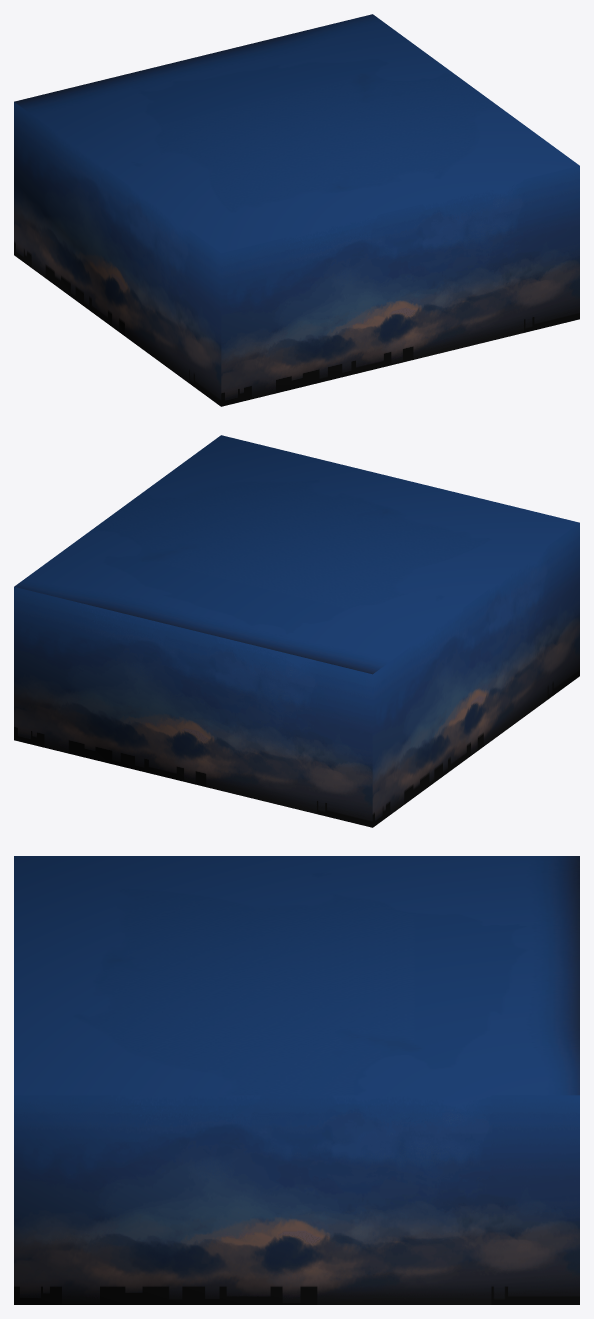
File: Training_Stadium.fbx
The picture shows the model from 3 angles, top to bottom: view 1: azimuth 30°, elevation 25°; view 2: azimuth 150°, elevation 25°; view 3: azimuth 270°, elevation 25°; orthographic projection. The views are drawn at different scales.
Visible parts, largest first — view 1: Skybox_02; view 2: Skybox_02; view 3: Skybox_02.
Part boxes in pixels (<box>): Skybox_02: <box>14,14,579,406</box>; Skybox_02: <box>14,435,579,827</box>; Skybox_02: <box>14,856,579,1304</box>.
Size of the model in its own units: 77927 by 34572 by 77927.
